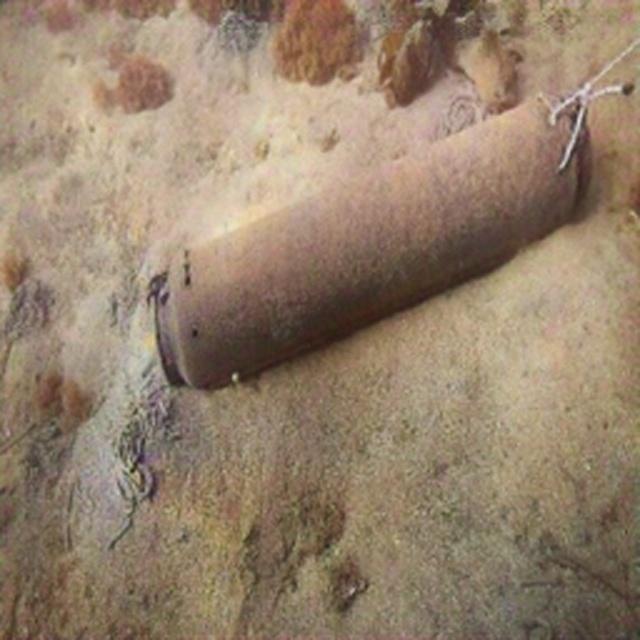mine: (145, 88, 593, 392)
